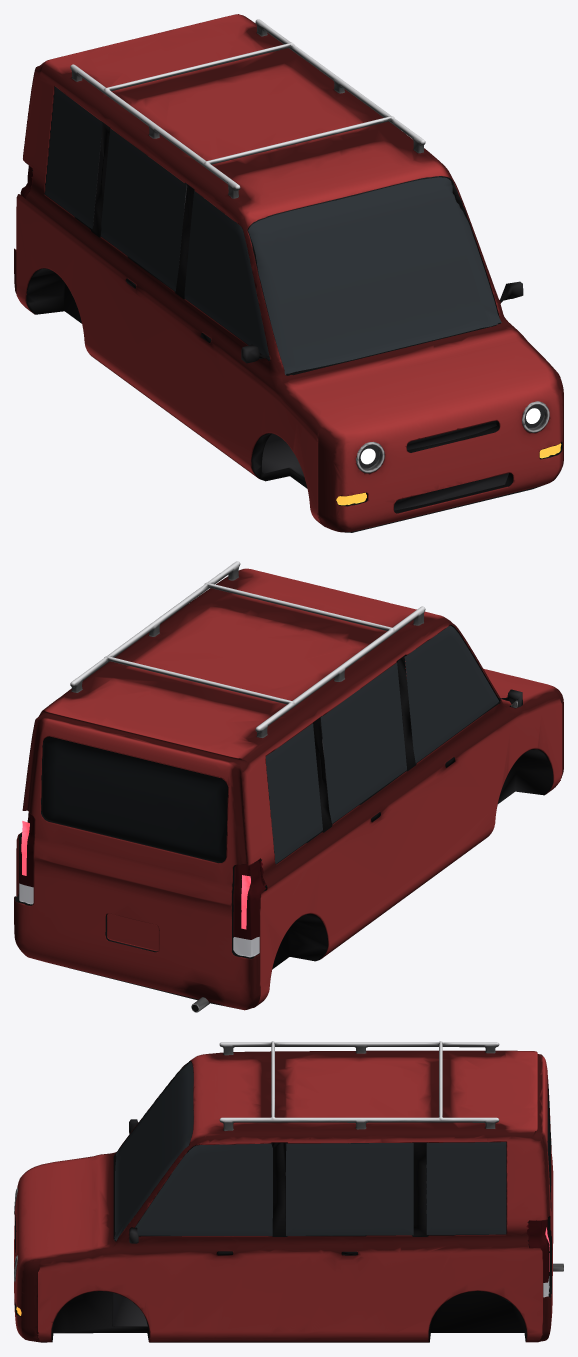
Rendered from mochi.m.glb.
3 renders of one model, top to bottom at view 1: azimuth 30°, elevation 25°; view 2: azimuth 150°, elevation 25°; view 3: azimuth 270°, elevation 25°, orthographic. The views are drawn at different scales.
Parts seen in each view (by area): view 1: paint_lodm, window_lodm, trim_lodm, chrome_lodm, grille_lodm, interior_lodm; view 2: paint_lodm, window_lodm, glass_lodm, trim_lodm, chrome_lodm, tail_lodm, reverse_lodm, tailglow_lodm; view 3: paint_lodm, window_lodm, trim_lodm, chrome_lodm, interior_lodm, tail_lodm.
Boxes of the visible parts, x1,y1,x2,y2 form: paint_lodm: [14, 14, 563, 532]; window_lodm: [45, 87, 501, 374]; trim_lodm: [26, 86, 562, 532]; chrome_lodm: [70, 19, 549, 473]; grille_lodm: [394, 421, 508, 510]; interior_lodm: [93, 138, 304, 478]; paint_lodm: [14, 568, 563, 1010]; window_lodm: [265, 625, 498, 863]; glass_lodm: [41, 736, 227, 862]; trim_lodm: [14, 625, 553, 1008]; chrome_lodm: [70, 561, 517, 1012]; tail_lodm: [19, 812, 266, 939]; reverse_lodm: [19, 883, 259, 957]; tailglow_lodm: [21, 821, 250, 929]; paint_lodm: [14, 1050, 553, 1342]; window_lodm: [114, 1062, 506, 1241]; trim_lodm: [14, 1061, 551, 1342]; chrome_lodm: [14, 1041, 563, 1281]; interior_lodm: [112, 1142, 506, 1326]; tail_lodm: [526, 1220, 549, 1282].
Size of what is drawn, in the model's own units: 1.69 by 1.52 by 3.44.
